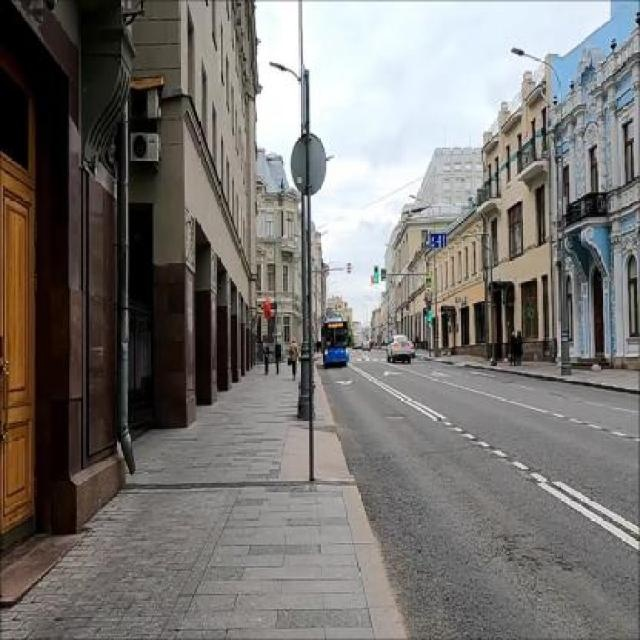Bus: (322, 321, 349, 367)
